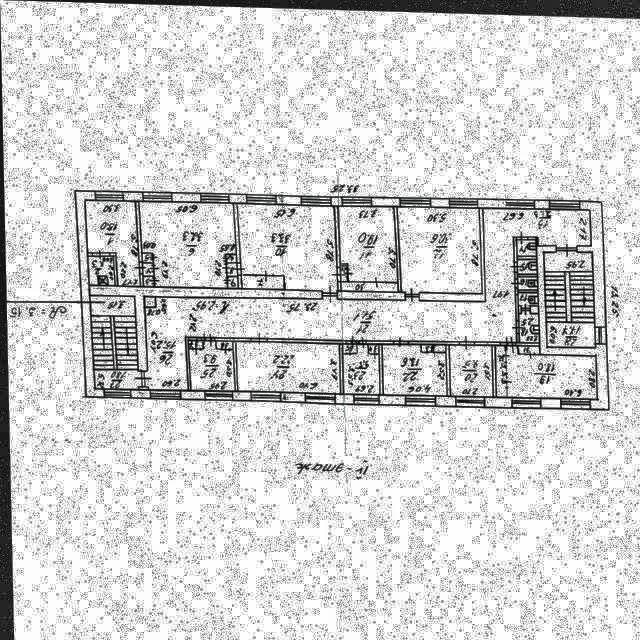room: (127, 191, 606, 394), (235, 203, 338, 290), (137, 201, 235, 287), (398, 204, 480, 293), (493, 343, 595, 396), (234, 340, 338, 390), (542, 248, 591, 345), (87, 199, 137, 287), (91, 295, 137, 389), (339, 203, 395, 280), (380, 342, 445, 393), (189, 339, 232, 391), (449, 343, 489, 394), (341, 343, 377, 392), (88, 256, 113, 286), (339, 279, 395, 291), (518, 308, 537, 340), (240, 274, 283, 287), (516, 237, 535, 253), (518, 290, 537, 305), (517, 257, 535, 271), (517, 274, 536, 287), (517, 344, 538, 351), (226, 262, 236, 275), (142, 263, 152, 275), (143, 276, 153, 286), (227, 276, 236, 287), (141, 253, 151, 262), (225, 254, 235, 261)
